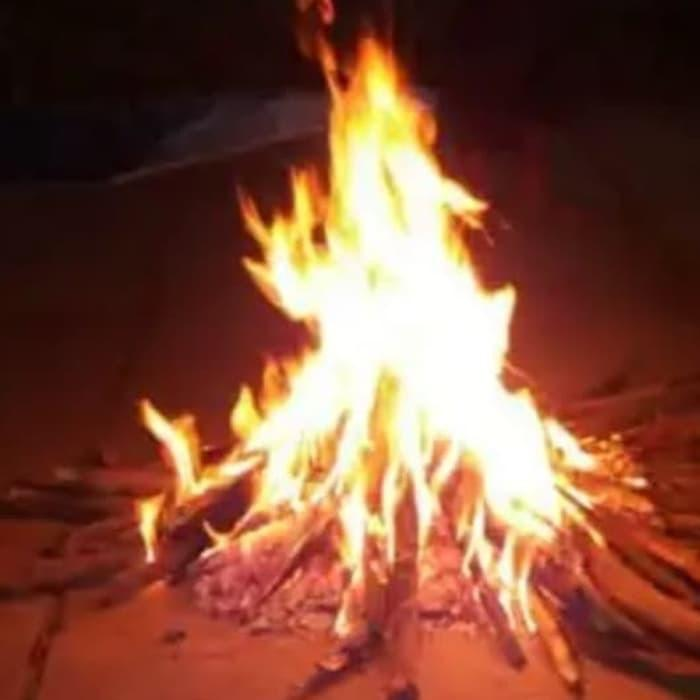Fire: (150, 41, 581, 636)
